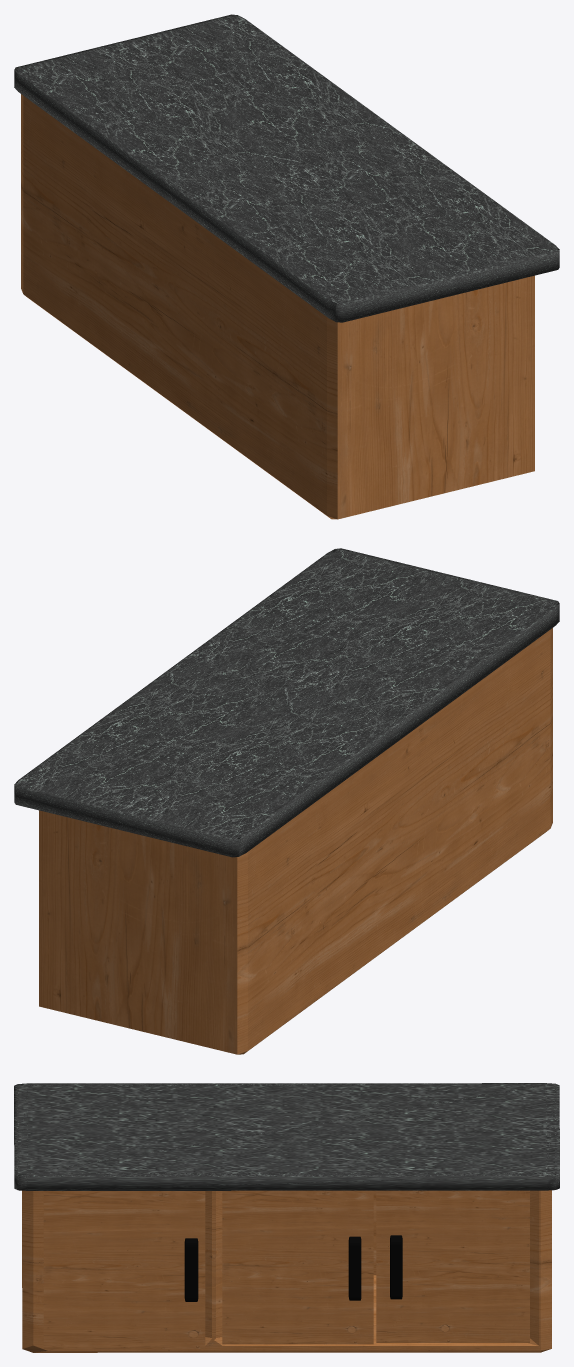
The model's file is YELLOW_KITCHEN_BASE_CABINET.glb.
3 views of the same model, one above another, from view 1: azimuth 30°, elevation 25°; view 2: azimuth 150°, elevation 25°; view 3: azimuth 270°, elevation 25° (orthographic). The views are drawn at different scales.
Parts seen in each view (by area): view 1: BODY, BAR; view 2: BODY, BAR; view 3: BAR, DOOR, LEFT_DOOR, RIGHT_DOOR, BODY.
Part boxes in pixels (x1,y1,x2,y2): BODY: [21, 94, 534, 519]; BAR: [14, 14, 559, 322]; BODY: [39, 628, 552, 1054]; BAR: [14, 548, 559, 857]; BAR: [14, 1083, 559, 1190]; DOOR: [43, 1191, 205, 1348]; LEFT_DOOR: [376, 1190, 529, 1342]; RIGHT_DOOR: [222, 1190, 373, 1344]; BODY: [22, 1190, 551, 1352].
Bounding box in the file's own units: 0.8826 × 0.8142 × 2.16.
Materials: 8 (5 with a texture image).
